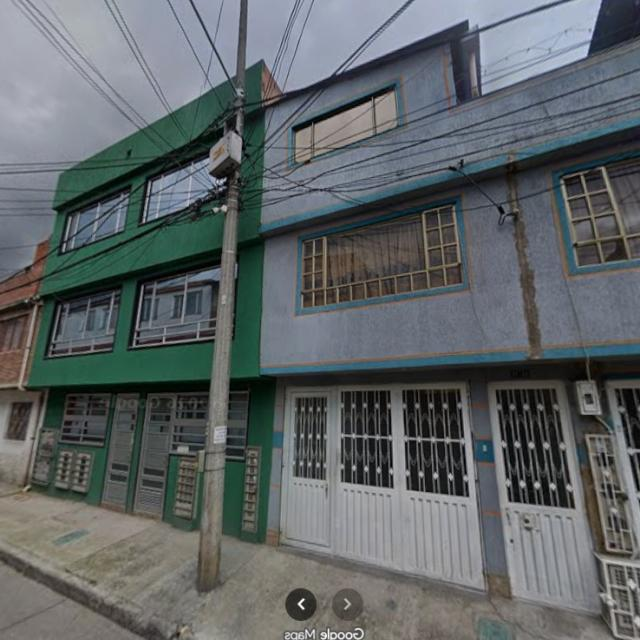Fachada: (260, 0, 640, 611), (29, 82, 234, 530), (223, 62, 278, 541), (1, 240, 49, 483)
Poste: (198, 0, 248, 592)
